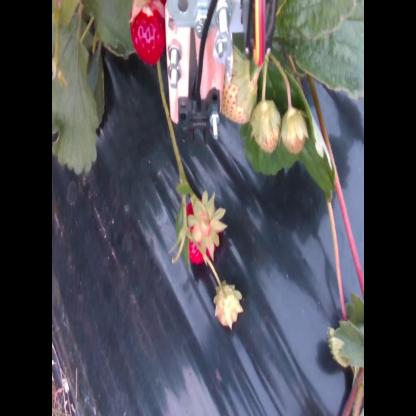ripe: (180, 193, 224, 266), (130, 0, 170, 65)
unripe: (220, 42, 254, 128), (250, 98, 282, 155), (214, 281, 244, 330), (281, 107, 308, 156)
